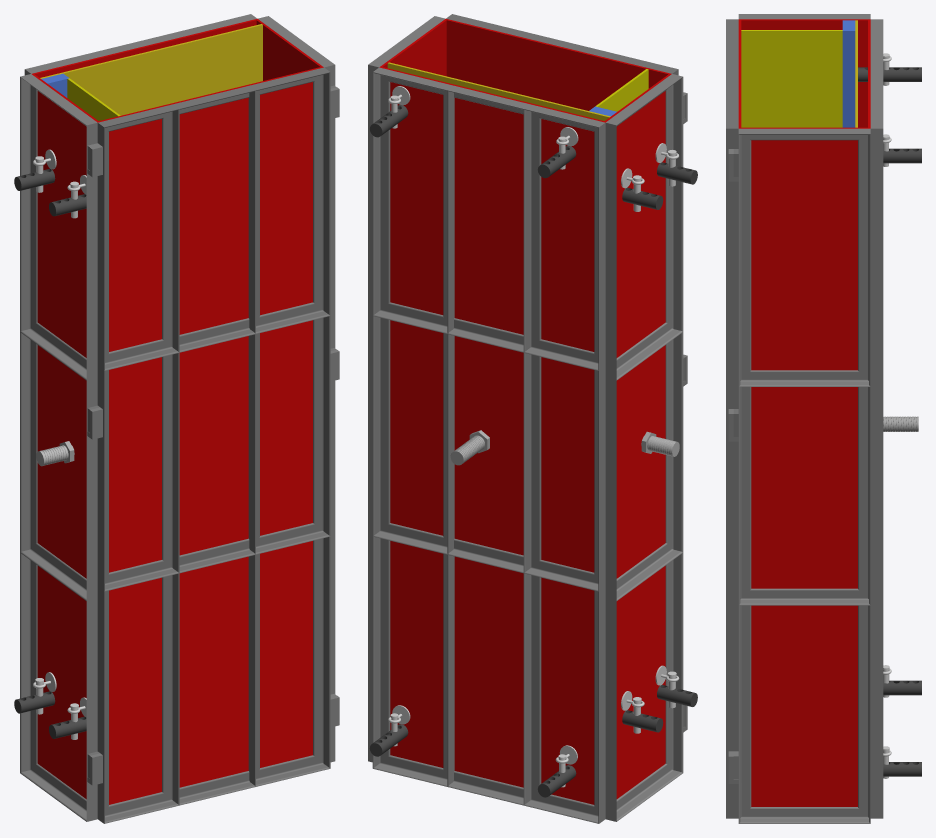
File: FormWork_K.fbx
3 views of the same model, side by side, from view 1: azimuth 30°, elevation 25°; view 2: azimuth 150°, elevation 25°; view 3: azimuth 270°, elevation 25° (orthographic).
Visible parts, largest first — view 1: 4ThPlate, ChannelFormWork, MovablePlate01, MovablePlate02; view 2: ChannelFormWork, 4ThPlate, MovablePlate01, MovablePlate02; view 3: ChannelFormWork, 4ThPlate, MovablePlate02, MovablePlate01, SpacerBlock.
Boxes of the visible parts, bbox=[...] form: 4ThPlate: bbox=[87, 66, 336, 823]; ChannelFormWork: bbox=[20, 14, 339, 821]; MovablePlate01: bbox=[40, 24, 262, 115]; MovablePlate02: bbox=[14, 78, 120, 738]; ChannelFormWork: bbox=[368, 16, 687, 823]; 4ThPlate: bbox=[445, 14, 684, 727]; MovablePlate01: bbox=[369, 62, 610, 797]; MovablePlate02: bbox=[595, 69, 697, 732]; ChannelFormWork: bbox=[728, 14, 891, 823]; 4ThPlate: bbox=[726, 19, 741, 818]; MovablePlate02: bbox=[741, 30, 842, 127]; MovablePlate01: bbox=[855, 20, 921, 776]; SpacerBlock: bbox=[842, 20, 855, 127].
Bounding box in the file's own units: 235 × 576 × 148.
